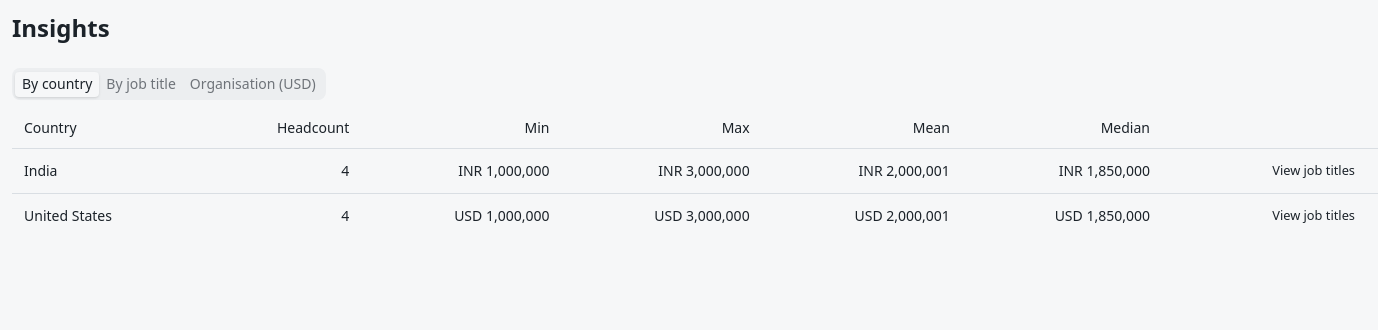
Test case: InsightsPage › job-title insights › shows "No employees in this country" when the country has no active employees
What coordinates should you click on to do the following:
click the button with aria-label "View job titles for India"
I would click on:
 (1314, 170)
Its box is [1261, 156, 1366, 184].
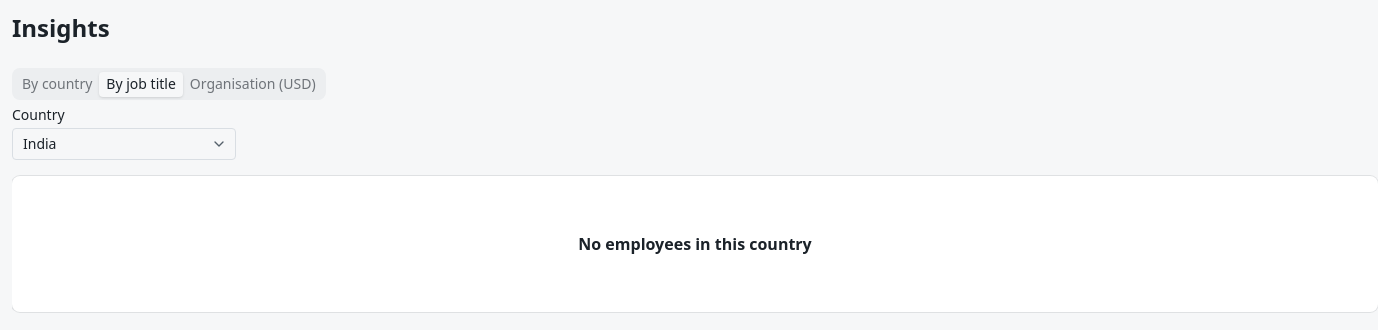
Result: the text "No employees in this country" is shown at [578, 232, 812, 256]
Result: the table is gone
